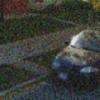cars: (51, 26, 99, 94)
